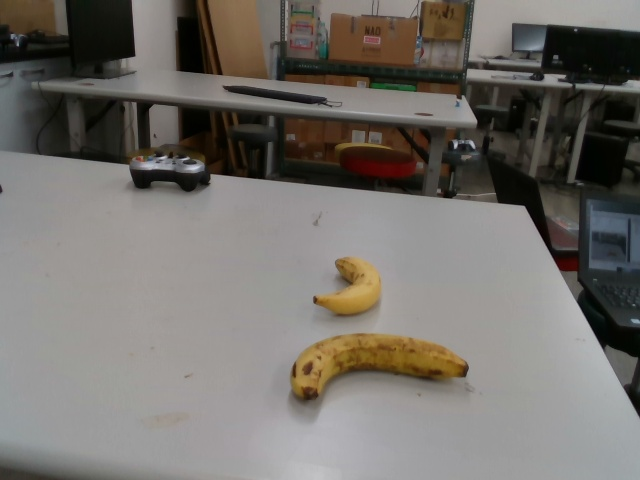banana: (289, 330, 469, 404), (311, 255, 384, 318)
